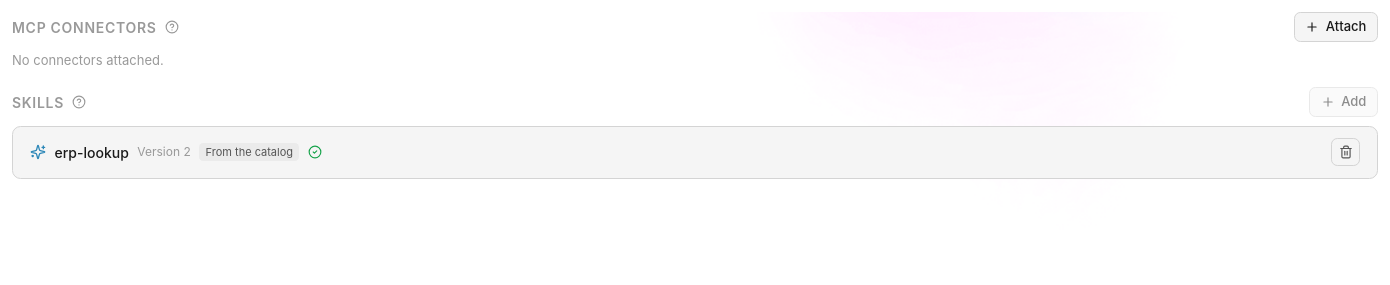
Scenario: the Skills section — a catalog skill’s actions › on a shared agent the user can edit, the confirm says a Remove reaches the team only once shared
The width and height of the screenshot is (1390, 285).
Click the button named "Remove erp-lookup from this agent".
click(1346, 152)  # box top-left (1331, 138), bottom-right (1360, 166)
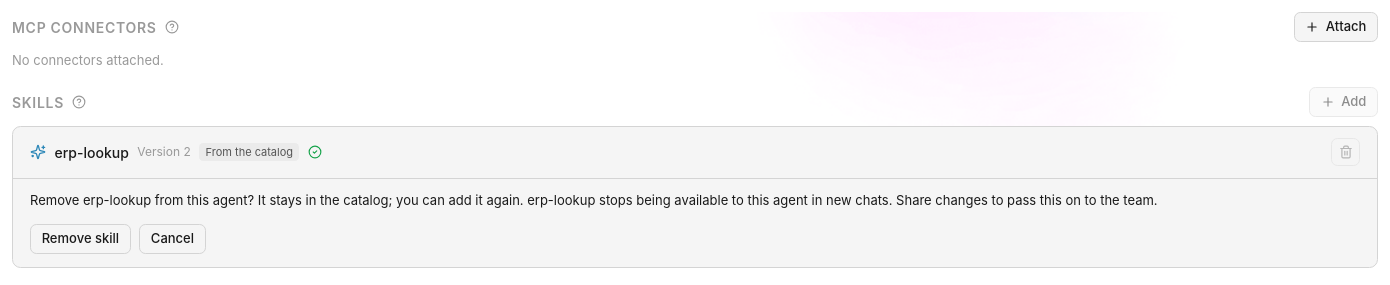
Expected: the text "in new chats. Share changes to pass this on to the team." is shown, top-left (30, 192), bottom-right (1158, 208)
